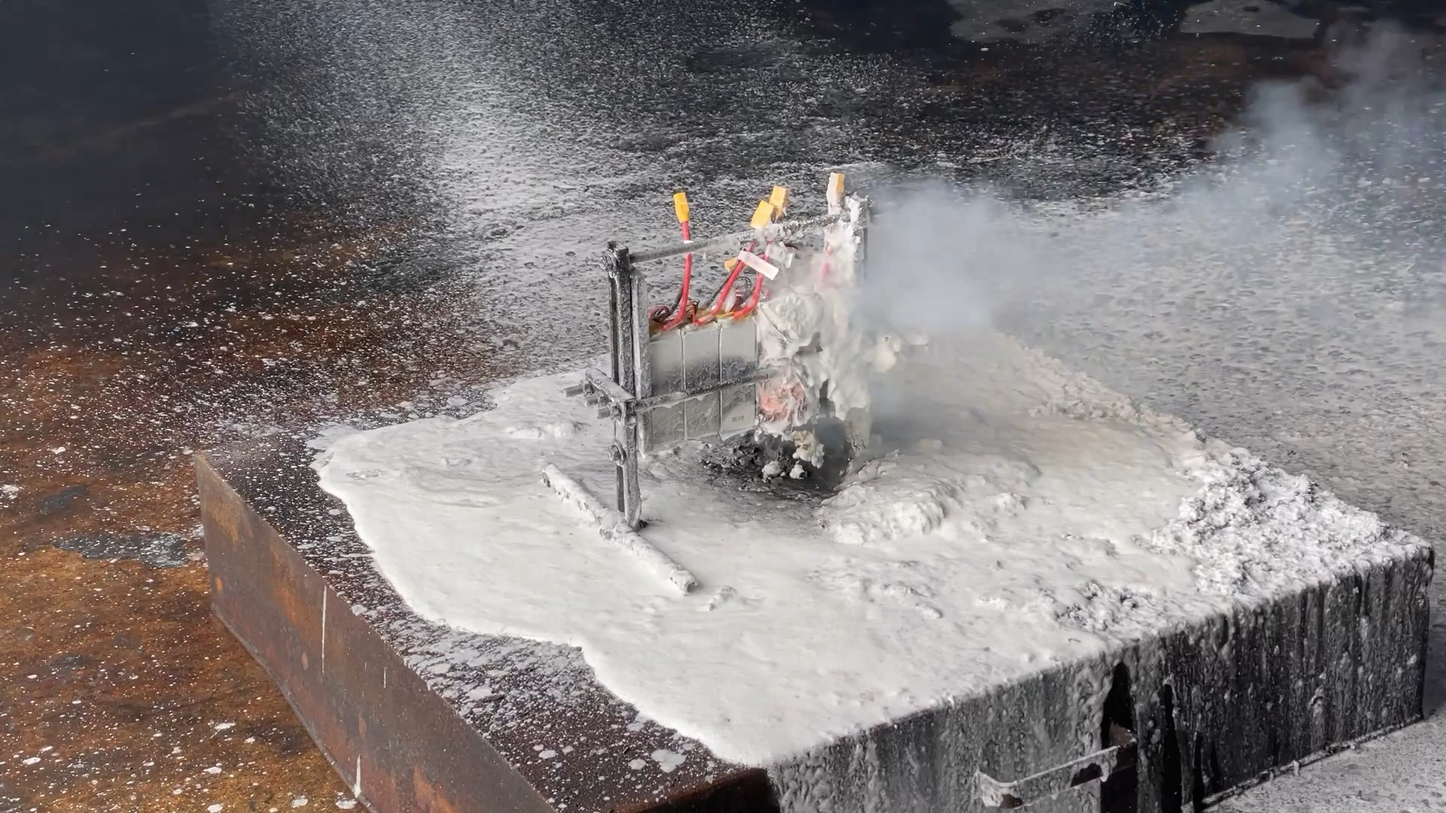smoke: (833, 43, 1437, 425)
